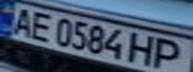0: (51, 16, 75, 47)
4: (103, 27, 127, 61)
5: (66, 19, 90, 52)
8: (84, 24, 106, 56)
A: (6, 6, 39, 37)
E: (24, 10, 57, 43)
H: (127, 32, 160, 66)
P: (151, 36, 190, 71)
